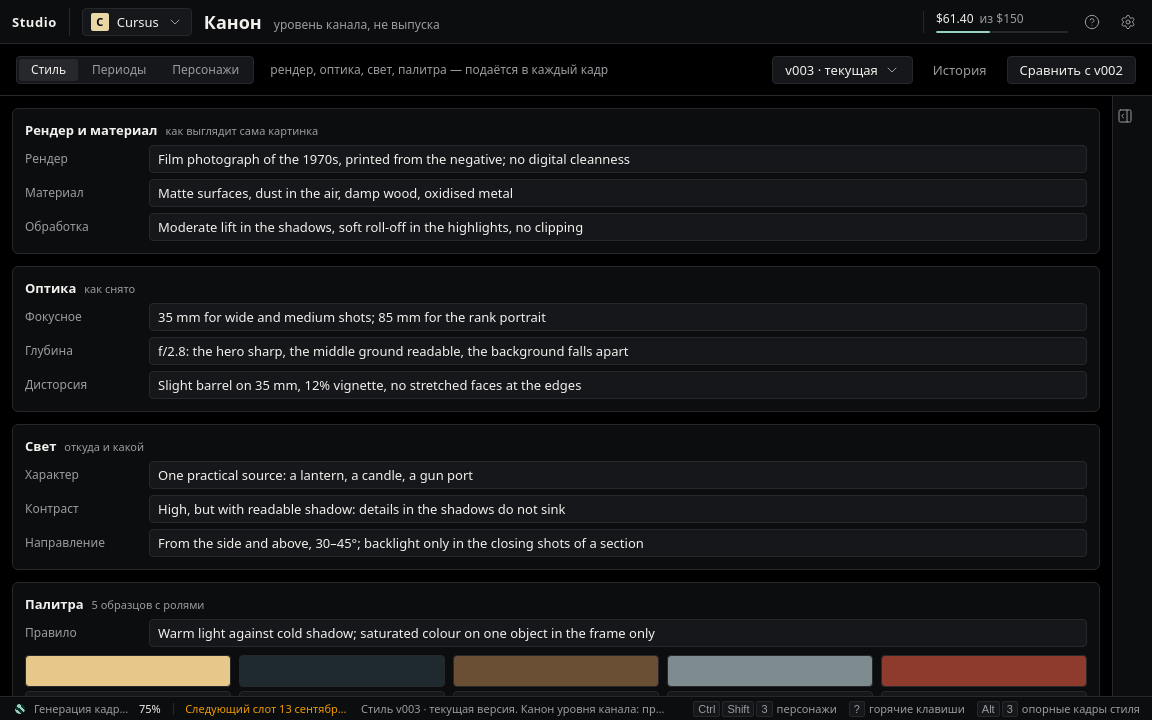
Test case: слой «Стиль» › правка пишется в черновик одним PUT после паузы; шапка — «Черновик из v003» и «Сохранено»
Replace the text in the text box named "Свет: Направление" with "Top light". click: {"x": 618, "y": 543}
box: left=149, top=529, right=1087, bottom=557
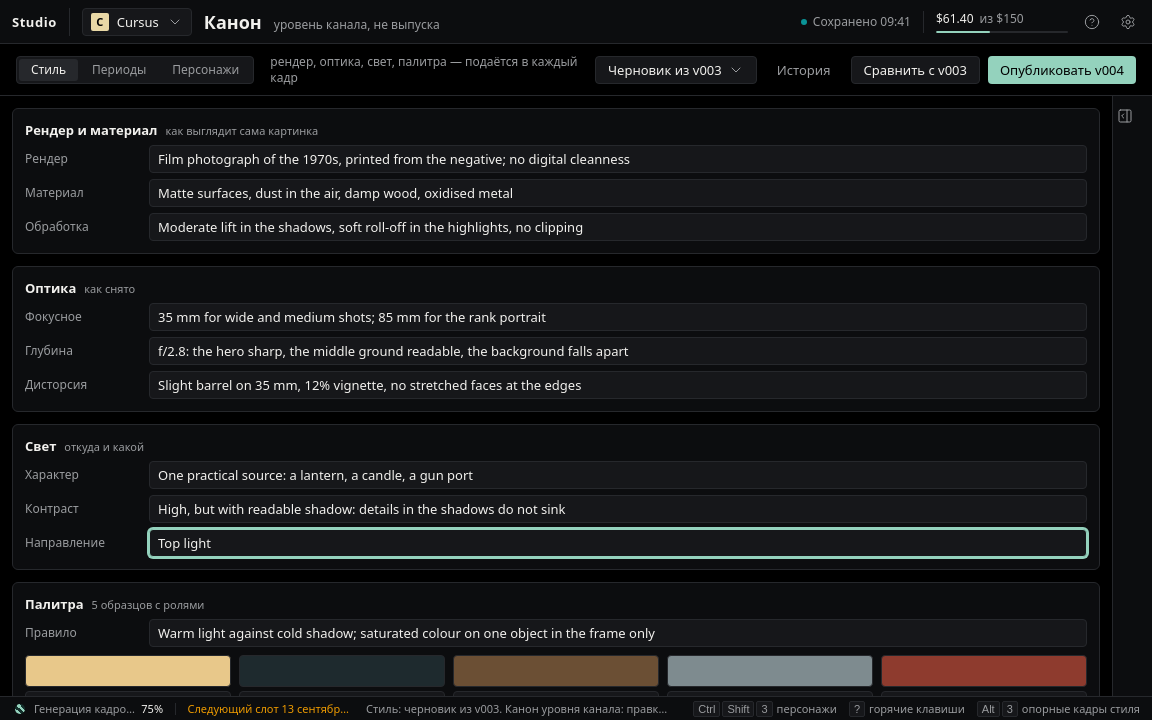
Expected: the button "Черновик из v003" is shown, left=595, top=56, right=757, bottom=84
Expected: the button "Опубликовать v004" is shown, left=988, top=56, right=1136, bottom=84
